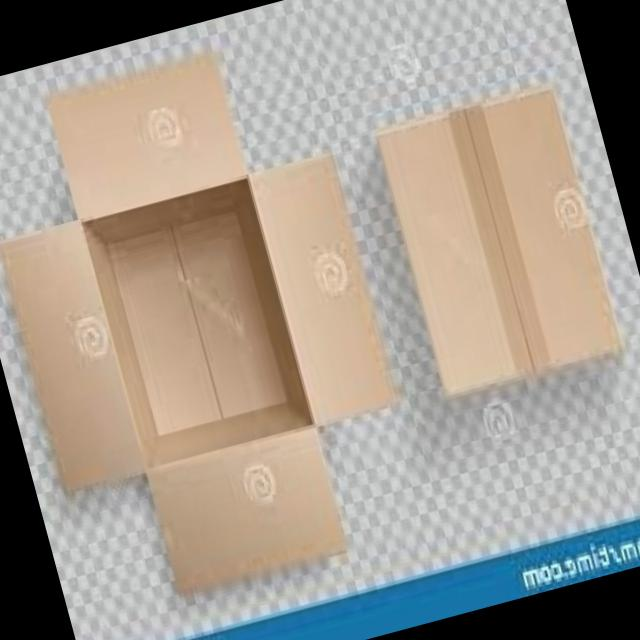cardboard paper: (0, 153, 392, 486), (377, 85, 619, 392), (0, 219, 143, 486), (148, 425, 345, 590), (48, 52, 245, 217)
